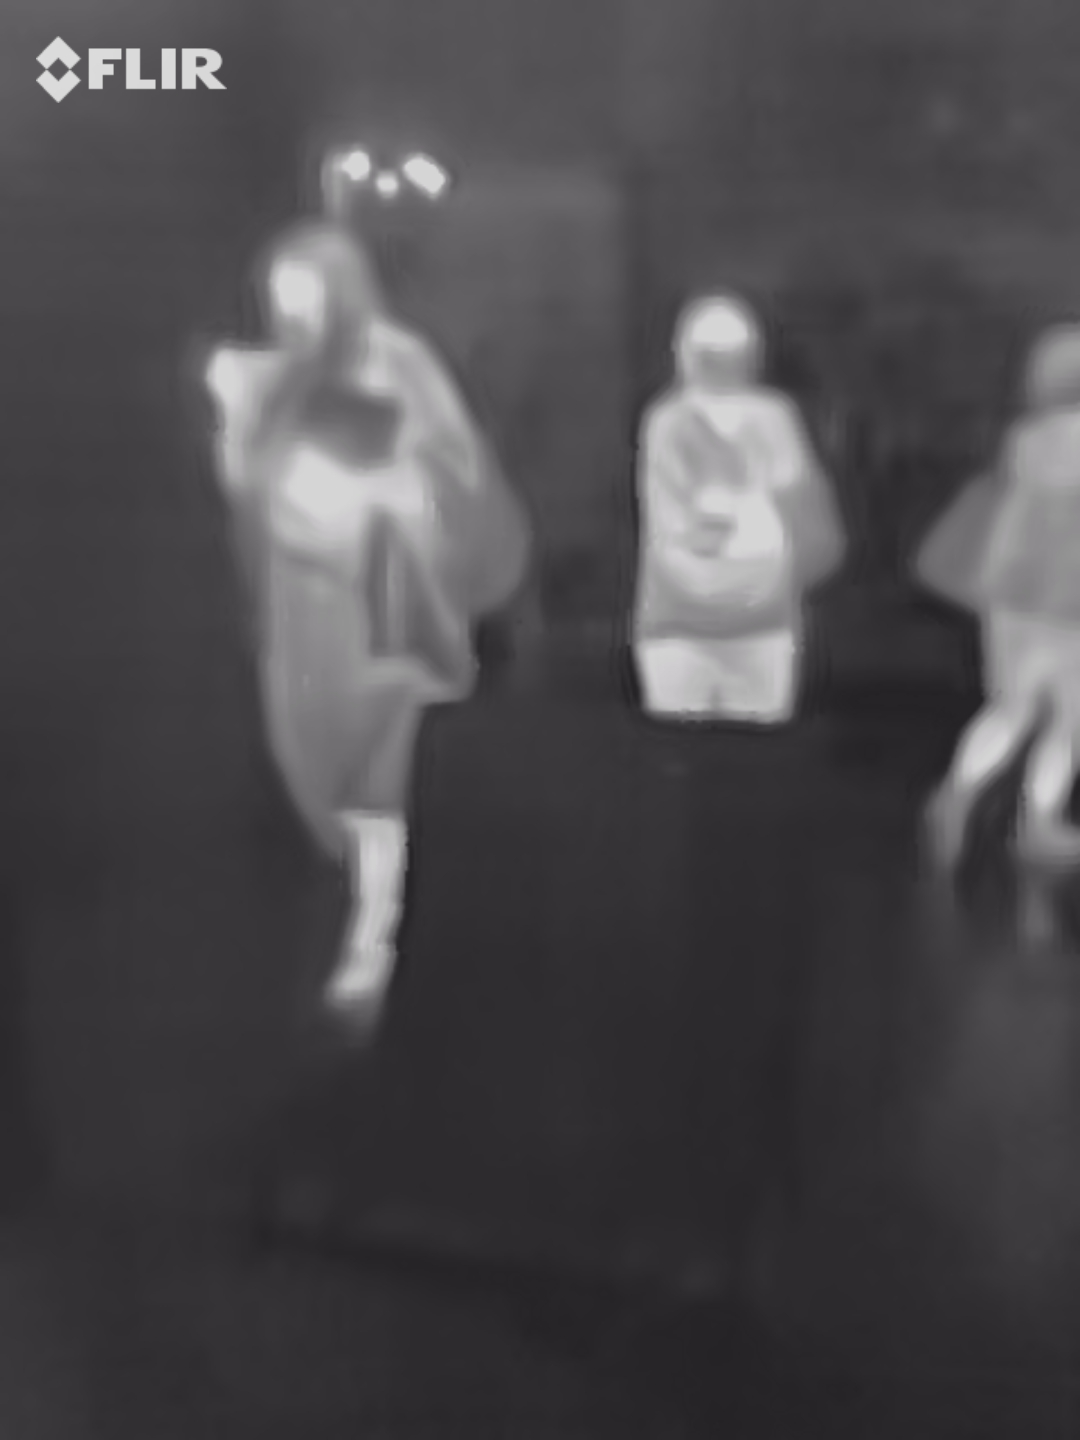head: (669, 289, 771, 407)
